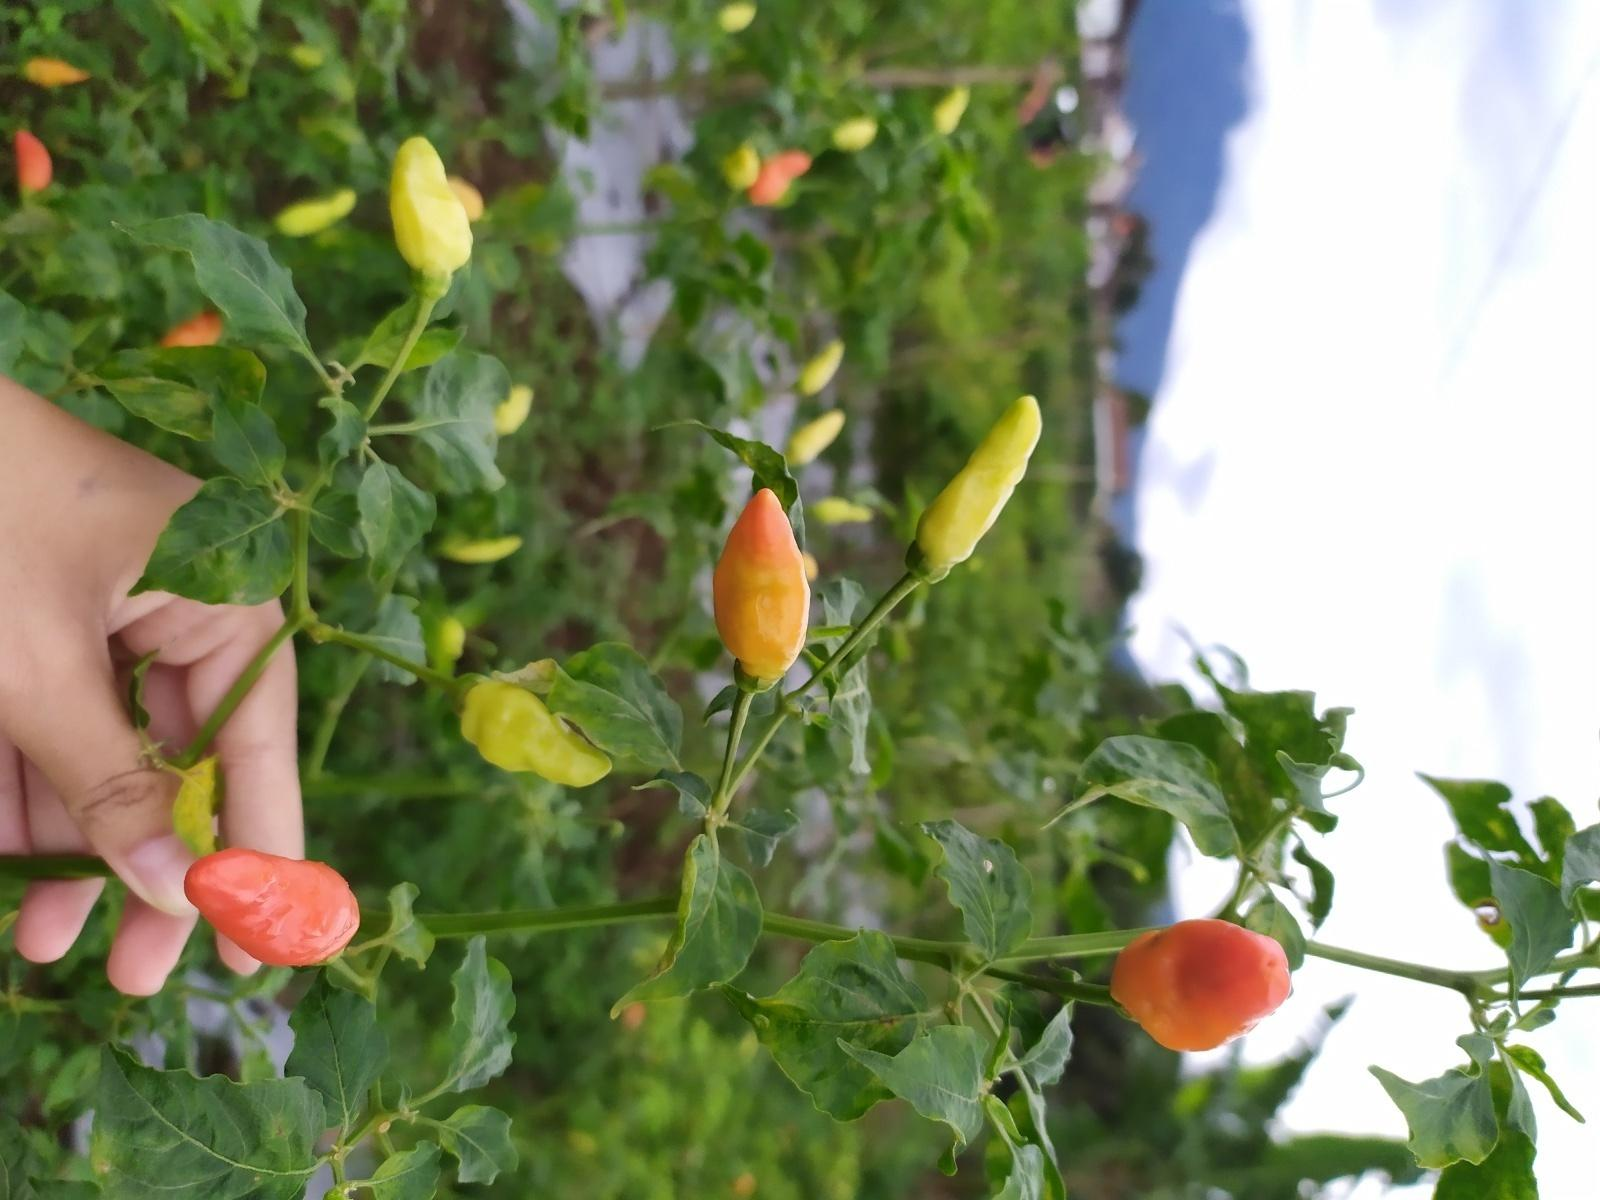cabai_normal: (910, 397, 1044, 585), (1107, 918, 1294, 1053), (183, 846, 362, 968), (711, 488, 810, 693), (454, 673, 614, 789), (389, 136, 475, 284), (278, 187, 357, 236), (787, 408, 847, 471), (752, 151, 809, 208), (796, 335, 843, 395), (441, 533, 525, 563)
